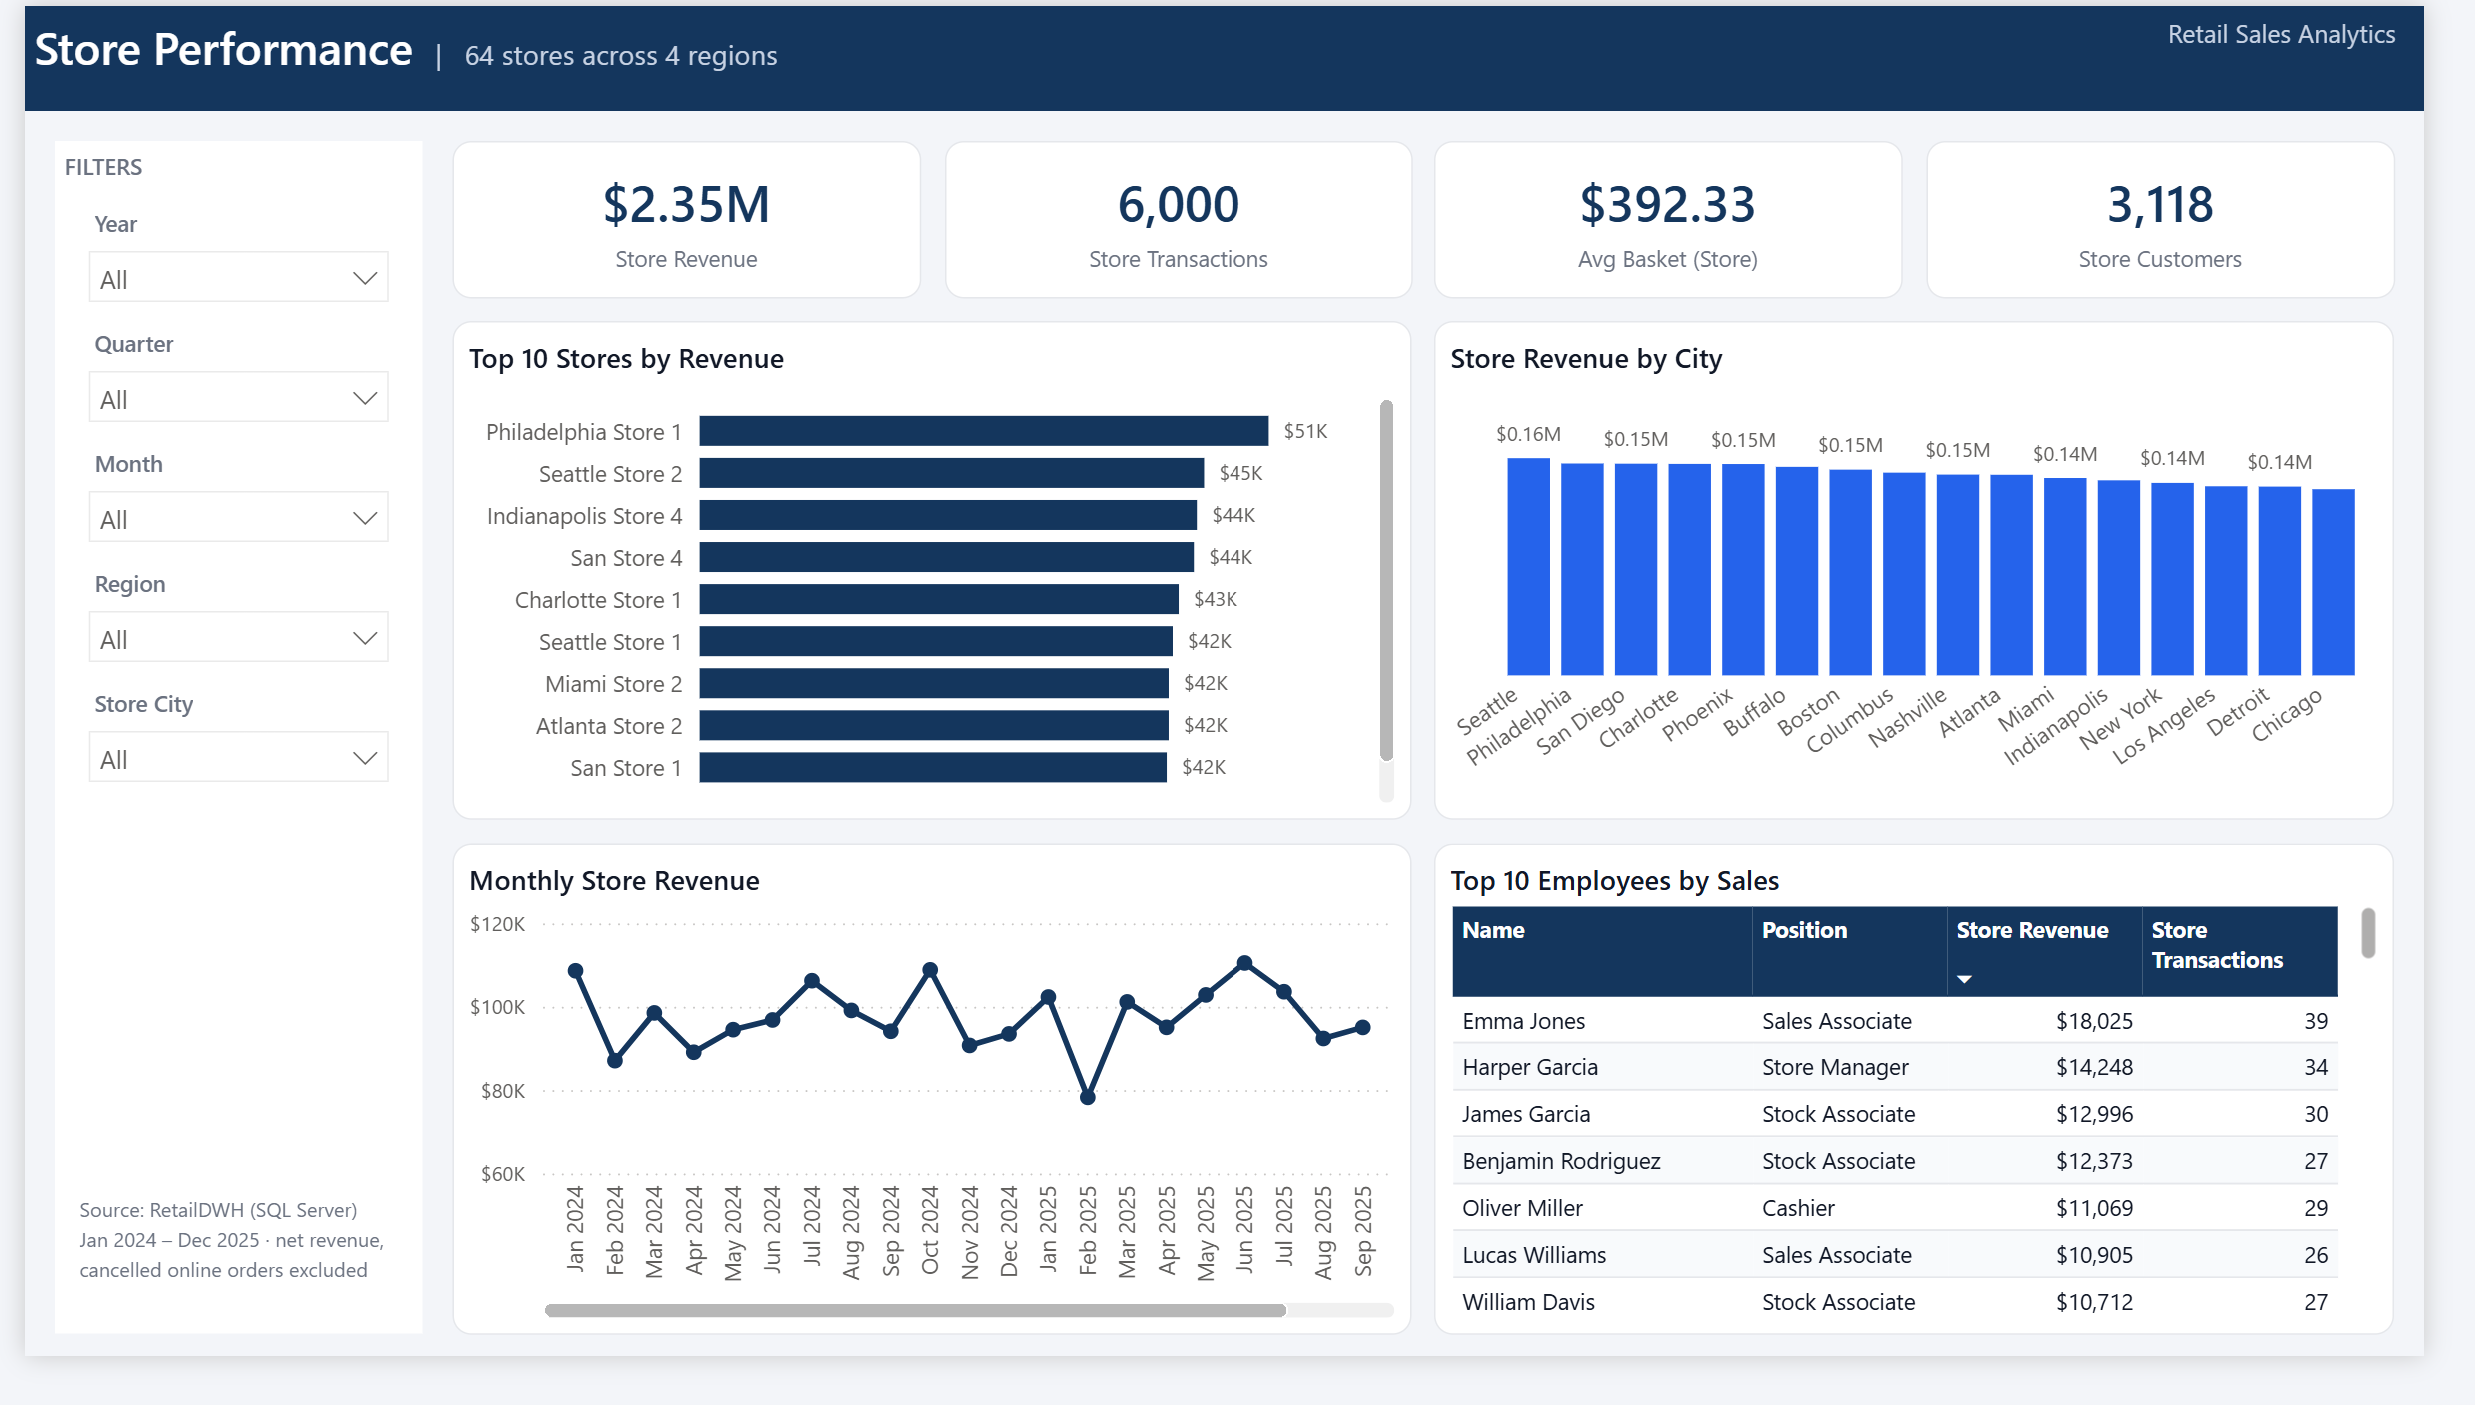

What the dashboard file says about the page in this screenshot:
{"tool":"powerbi","page":{"name":"Store Performance","canvas":[1280,720],"ordinal":4},"visuals":[{"type":"textbox","box":[0,0,1280,56],"z":2000},{"type":"textbox","box":[980,0,290,56],"z":3000},{"type":"textbox","box":[16,72,196,636],"z":4000},{"type":"slicer","fields":{"Values":["Date.Year"]},"box":[24,102,180,56],"z":5000},{"type":"slicer","fields":{"Values":["Date.Quarter"]},"box":[24,166,180,56],"z":6000},{"type":"slicer","fields":{"Values":["Date.Month Name"]},"box":[24,230,180,56],"z":7000},{"type":"slicer","fields":{"Values":["Store.Region"]},"box":[24,294,180,56],"z":8000},{"type":"slicer","fields":{"Values":["Store.City"]},"box":[24,358,180,56],"z":9000},{"type":"textbox","box":[24,628,180,64],"z":10000},{"type":"card","fields":{"Values":["Key Measures.Store Revenue"]},"box":[228,72,250,84],"z":11000},{"type":"card","fields":{"Values":["Key Measures.Store Transactions"]},"box":[490,72,250,84],"z":12000},{"type":"card","fields":{"Values":["Key Measures.Avg Basket (Store)"]},"box":[752,72,250,84],"z":13000},{"type":"card","fields":{"Values":["Key Measures.Store Customers"]},"box":[1014,72,250,84],"z":14000},{"type":"clusteredBarChart","title":"Top 10 Stores by Revenue","fields":{"Category":["Store.Store"],"Y":["Key Measures.Store Revenue"]},"box":[228,168,512,266],"z":15000},{"type":"clusteredColumnChart","title":"Store Revenue by City","fields":{"Category":["Store.City"],"Y":["Key Measures.Store Revenue"]},"box":[752,168,512,266],"z":16000},{"type":"lineChart","title":"Monthly Store Revenue","fields":{"Category":["Date.Month"],"Y":["Key Measures.Store Revenue"]},"box":[228,446,512,262],"z":17000},{"type":"tableEx","title":"Top 10 Employees by Sales","fields":{"Values":["Employee.Name","Employee.Position","Key Measures.Store Revenue","Key Measures.Store Transactions"]},"box":[752,446,512,262],"z":18000}]}

Visuals, with their boxes in screenshot pixels (x1, y1, x2, y2), scaled from the page's 1280x720 canvas onto the 2475x1405 screenshot:
textbox: box(0, 0, 2474, 109)
textbox: box(1895, 0, 2456, 109)
textbox: box(31, 140, 410, 1382)
slicer - Date.Year: box(46, 199, 394, 308)
slicer - Date.Quarter: box(46, 324, 394, 433)
slicer - Date.Month Name: box(46, 449, 394, 558)
slicer - Store.Region: box(46, 574, 394, 683)
slicer - Store.City: box(46, 699, 394, 808)
textbox: box(46, 1225, 394, 1350)
card - Key Measures.Store Revenue: box(441, 140, 924, 304)
card - Key Measures.Store Transactions: box(947, 140, 1431, 304)
card - Key Measures.Avg Basket (Store): box(1454, 140, 1937, 304)
card - Key Measures.Store Customers: box(1961, 140, 2444, 304)
"Top 10 Stores by Revenue" clusteredBarChart: box(441, 328, 1431, 847)
"Store Revenue by City" clusteredColumnChart: box(1454, 328, 2444, 847)
"Monthly Store Revenue" lineChart: box(441, 870, 1431, 1382)
"Top 10 Employees by Sales" tableEx: box(1454, 870, 2444, 1382)
